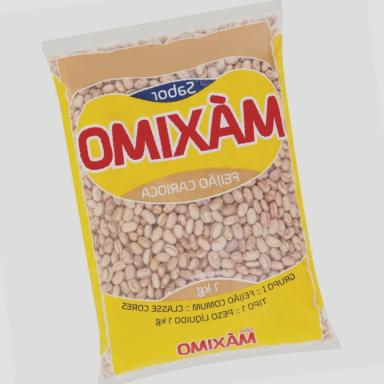beans package: (44, 2, 337, 382)
